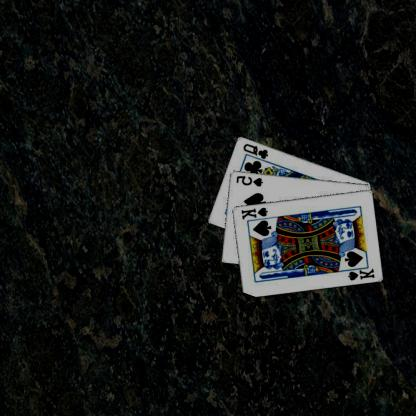5S: (236, 173, 266, 187)
KS: (344, 263, 377, 282), (240, 204, 270, 221)
QC: (242, 140, 271, 160)
